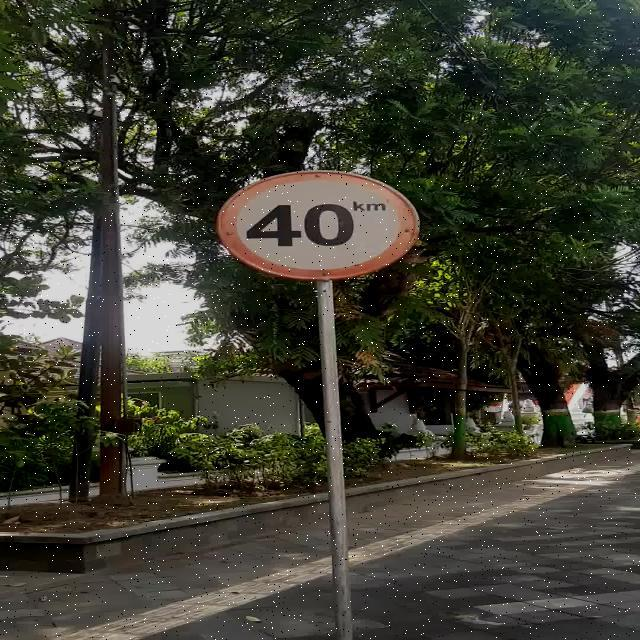Kecepatan Maks. 40 km: (216, 170, 420, 280)
